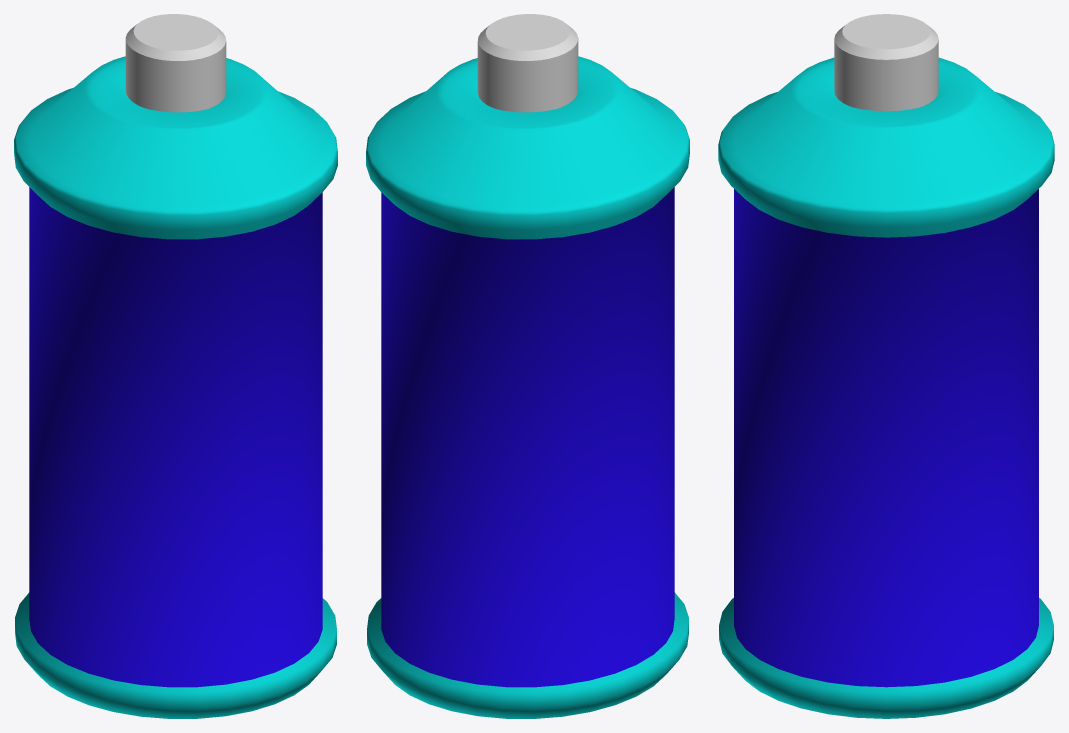
Rendered from spray_paint.fbx.
The picture shows the model from 3 angles, left to right: view 1: azimuth 30°, elevation 25°; view 2: azimuth 150°, elevation 25°; view 3: azimuth 270°, elevation 25°; orthographic projection.
Parts seen in each view (by area): view 1: spray_bottle_low, cap_low; view 2: spray_bottle_low, cap_low; view 3: spray_bottle_low, cap_low.
Boxes of the visible parts, x1,y1,x2,y2 form: spray_bottle_low: (14, 56, 337, 718); cap_low: (125, 14, 226, 112); spray_bottle_low: (366, 56, 689, 718); cap_low: (477, 14, 578, 112); spray_bottle_low: (718, 57, 1054, 718); cap_low: (834, 14, 938, 111).
Bounding box in the file's own units: 4.79 × 10.29 × 5.02.
